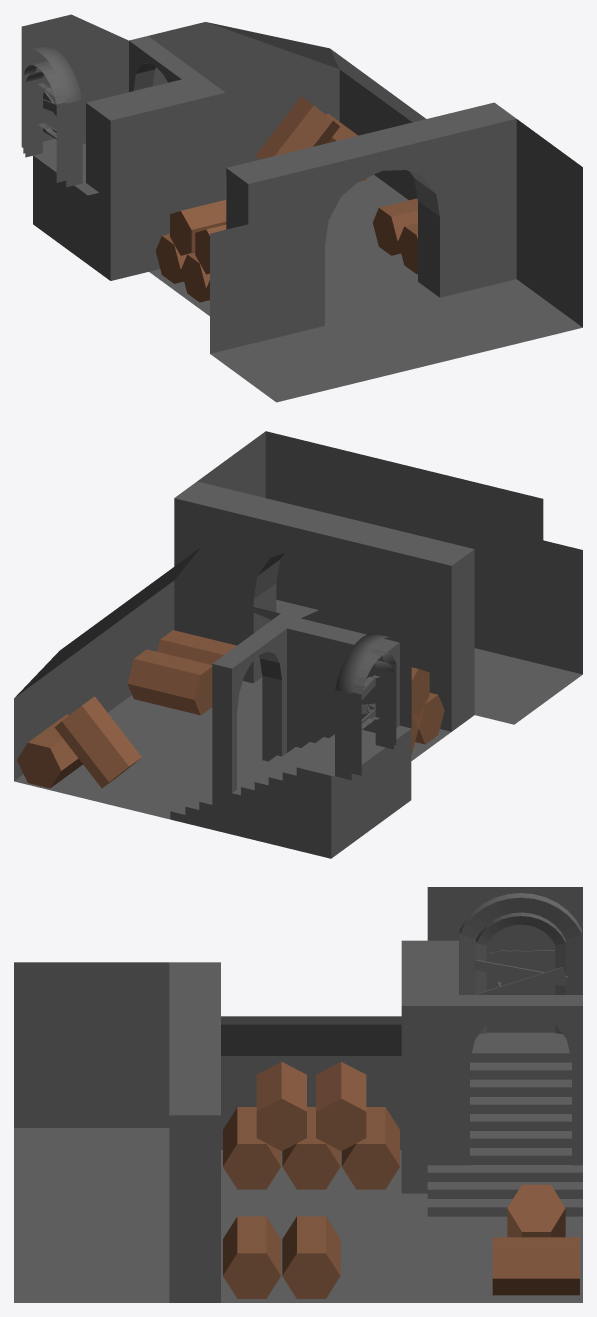
File: storage_room.gltf
3 views of the same model, one above another, from view 1: azimuth 30°, elevation 25°; view 2: azimuth 150°, elevation 25°; view 3: azimuth 270°, elevation 25° (orthographic). The views are drawn at different scales.
Parts seen in each view (by area): view 1: Walls, ArchBig, SeparatingWall, ___DoorwayCover2, ___DoorwayCover0, Stairs, Barrel.008, ArchSmall, Barrel.004, Barrel.006, Barrel.002, Barrel.001 (+2 smaller); view 2: Walls, ArchBig, Stairs, SeparatingWall, ArchSmall, ___DoorwayCover0, Barrel.006, Barrel.008, Barrel.007, Barrel.005, Barrel, Barrel.003; view 3: Walls, Stairs, ___DoorwayCover1, ArchBig, ___DoorwayCover0, SeparatingWall, ArchSmall, Barrel.007, Barrel.006, Barrel.005, Barrel.004, Barrel.003 (+4 smaller).
Part boxes in pixels (<box>): Walls: <box>33,14,582,402</box>; ArchBig: <box>226,102,516,344</box>; SeparatingWall: <box>86,75,225,280</box>; ___DoorwayCover2: <box>516,159,582,327</box>; ___DoorwayCover0: <box>21,24,98,195</box>; Stairs: <box>33,139,99,272</box>; Barrel.008: <box>256,96,339,159</box>; ArchSmall: <box>129,36,200,92</box>; Barrel.004: <box>170,200,226,255</box>; Barrel.006: <box>372,198,417,255</box>; Barrel.002: <box>155,234,186,283</box>; Barrel.001: <box>181,252,209,302</box>; Walls: <box>14,431,582,819</box>; ArchBig: <box>174,481,474,731</box>; Stairs: <box>170,730,399,858</box>; SeparatingWall: <box>267,605,411,816</box>; ArchSmall: <box>212,623,286,834</box>; ___DoorwayCover0: <box>331,601,411,780</box>; Barrel.006: <box>127,649,212,715</box>; Barrel.008: <box>54,696,141,788</box>; Barrel.007: <box>17,714,82,788</box>; Barrel.005: <box>157,630,236,664</box>; Barrel: <box>412,693,444,744</box>; Barrel.003: <box>411,667,429,715</box>; Walls: <box>14,962,582,1302</box>; Stairs: <box>427,1034,582,1216</box>; ___DoorwayCover1: <box>14,1009,169,1127</box>; ArchBig: <box>169,962,220,1302</box>; ___DoorwayCover0: <box>427,887,582,1034</box>; SeparatingWall: <box>401,940,458,1193</box>; ArchSmall: <box>459,995,582,1165</box>; Barrel.007: <box>492,1237,579,1295</box>; Barrel.006: <box>282,1216,340,1298</box>; Barrel.005: <box>223,1216,280,1298</box>; Barrel.004: <box>316,1061,366,1150</box>; Barrel.003: <box>256,1061,306,1150</box>.
Bounding box in the file's own units: 8.58 × 5 × 11.
